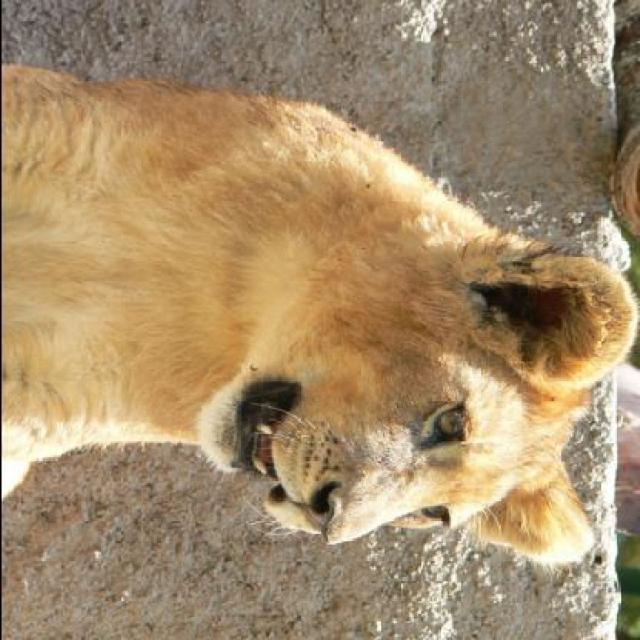Lion: (0, 65, 637, 597)
